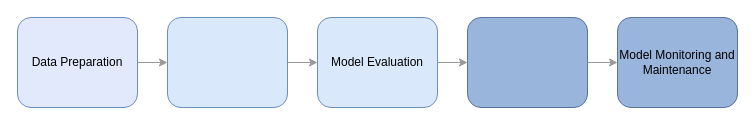
Image size: 755x125. Some labels were removed from this diagram. The shapes that lost their labels are listed below. From the top down, each one's box as (x1, y1, x2, y2) in pixels, then its label:
(166, 16, 288, 108): Model Building
(466, 16, 588, 108): Model Deployment
